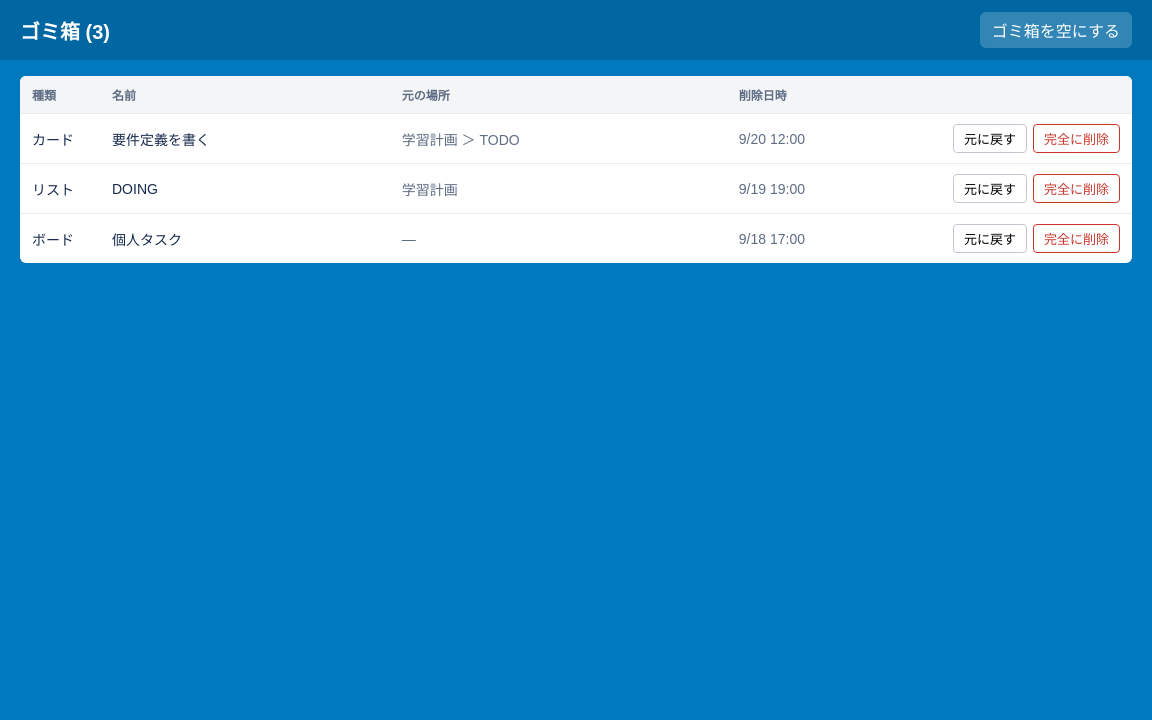
Scenario: 完全に削除（F-43・05 画面設計書 7章） › 種類ごとに文言を変える（カード）
Click the button "完全に削除" in the row of "カード" at (1076, 138), box [1033,124,1120,153]
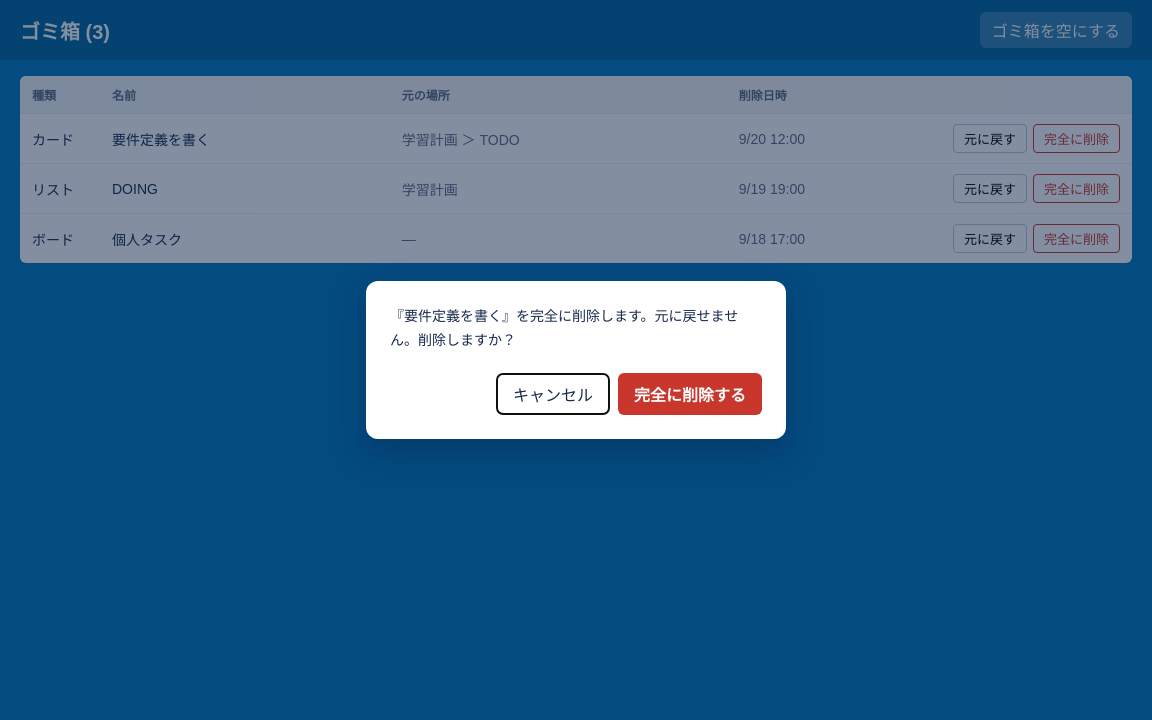
Result: the text "『要件定義を書く』を完全に削除します。元に戻せません。削除しますか？" is shown at [390,305,762,353]
